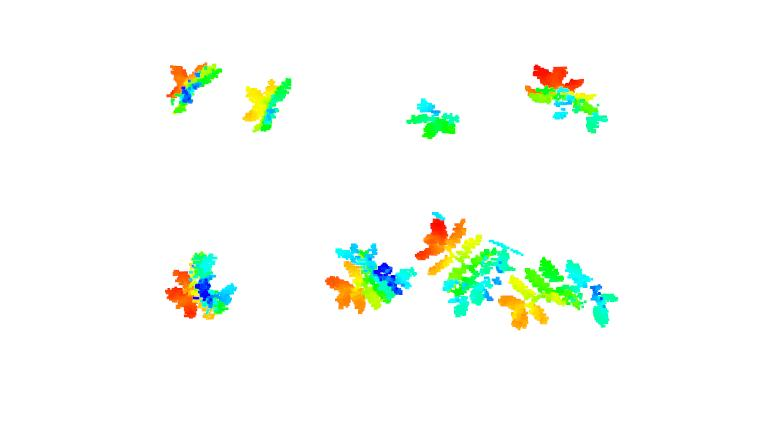chickpea: (415, 220, 514, 321), (497, 256, 621, 332), (326, 242, 416, 319), (527, 61, 610, 137), (161, 251, 236, 321), (162, 60, 223, 117), (239, 76, 294, 133), (405, 96, 464, 141)
